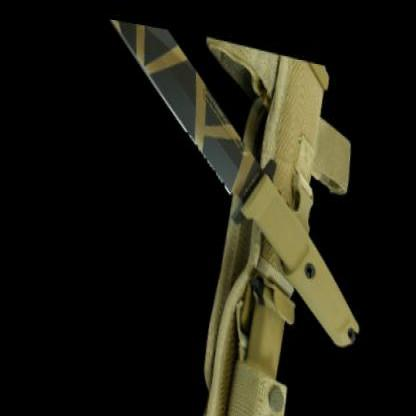knife: (80, 11, 277, 208)
